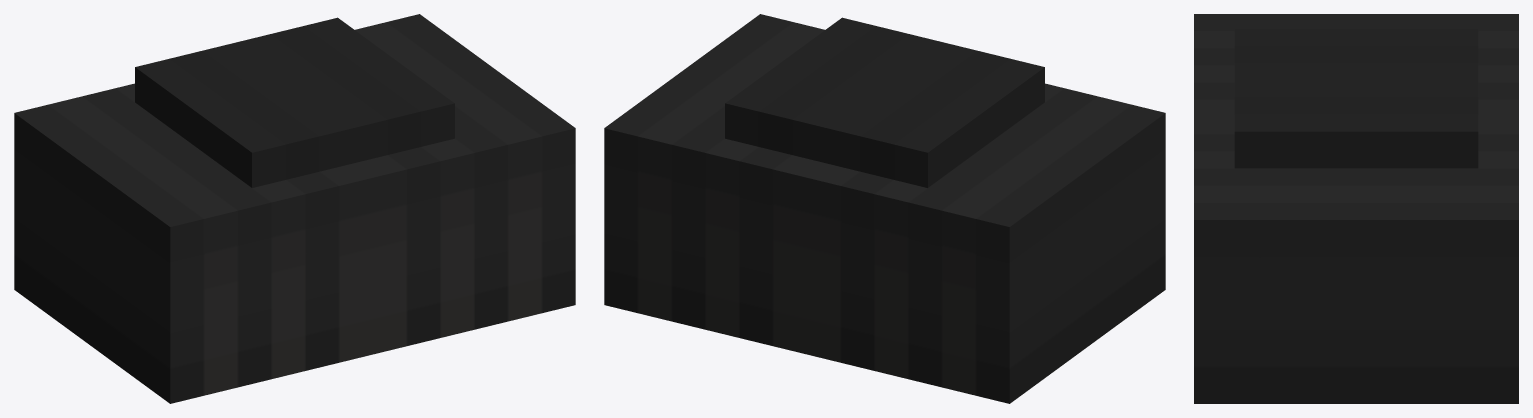
The model's file is Chest056.fbx.
3 renders of one model, left to right at view 1: azimuth 30°, elevation 25°; view 2: azimuth 150°, elevation 25°; view 3: azimuth 270°, elevation 25°, orthographic. The views are drawn at different scales.
Parts seen in each view (by area): view 1: Chest056; view 2: Chest056; view 3: Chest056.
Part boxes in pixels (x1,y1,x2,y2): Chest056: [14, 14, 575, 403]; Chest056: [604, 14, 1165, 403]; Chest056: [1194, 14, 1518, 403].
Bounding box in the file's own units: 12 × 6 × 8.
